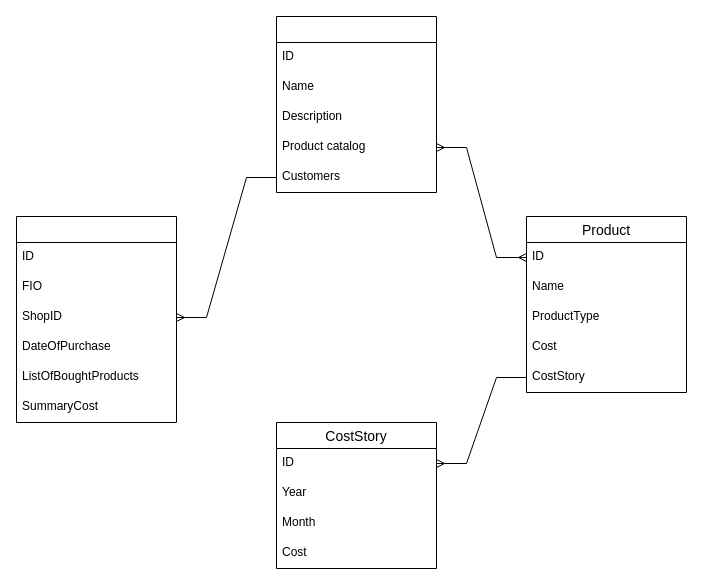
This 703x585 diagram has some shape labels left out. Here are the shapes that lost their labels. From the top down, the box of each, then its label:
(276, 16, 436, 192): Shop
(16, 216, 176, 422): Customer
